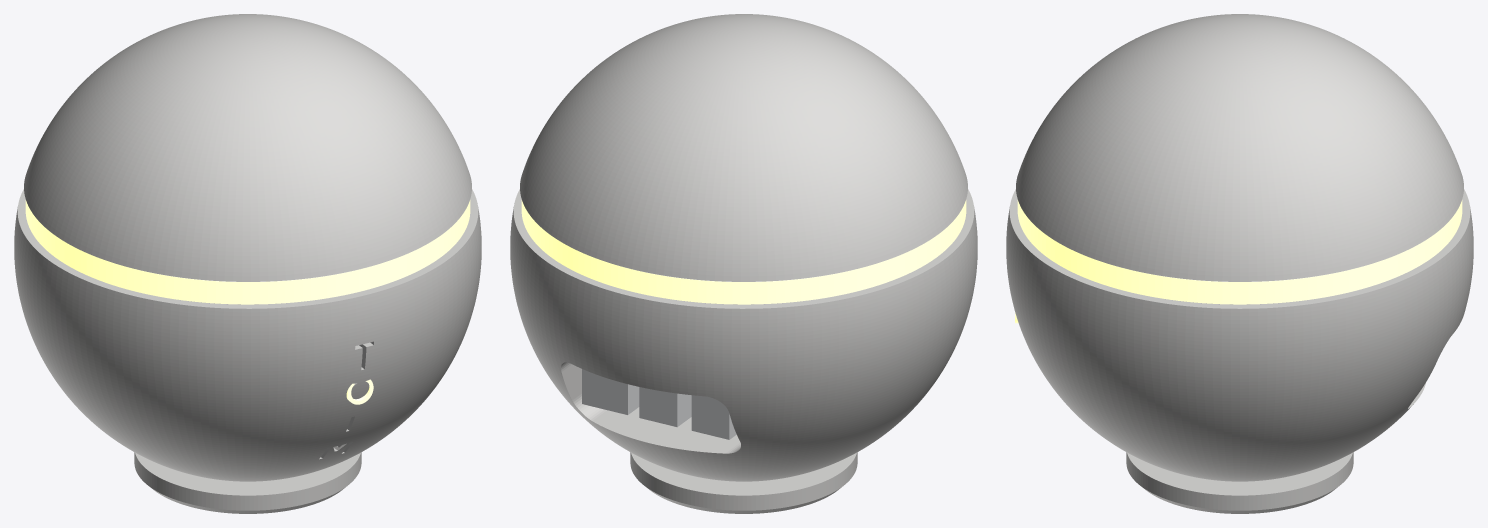
Rendered from v1_esfera-ambar.glb.
3 renders of one model, left to right at view 1: azimuth 30°, elevation 25°; view 2: azimuth 150°, elevation 25°; view 3: azimuth 270°, elevation 25°, orthographic.
Visible parts, largest first — view 1: cuerpo, luz; view 2: cuerpo, luz, puertos; view 3: cuerpo, luz.
Part boxes in pixels (box(x1,y1,x2,y2)): cuerpo: box(14, 14, 481, 513); luz: box(25, 200, 470, 304); cuerpo: box(510, 14, 977, 513); luz: box(521, 200, 966, 304); puertos: box(582, 369, 736, 439); cuerpo: box(1006, 14, 1473, 513); luz: box(1017, 200, 1462, 304).
Bounding box in the file's own units: 140 × 143 × 140.
